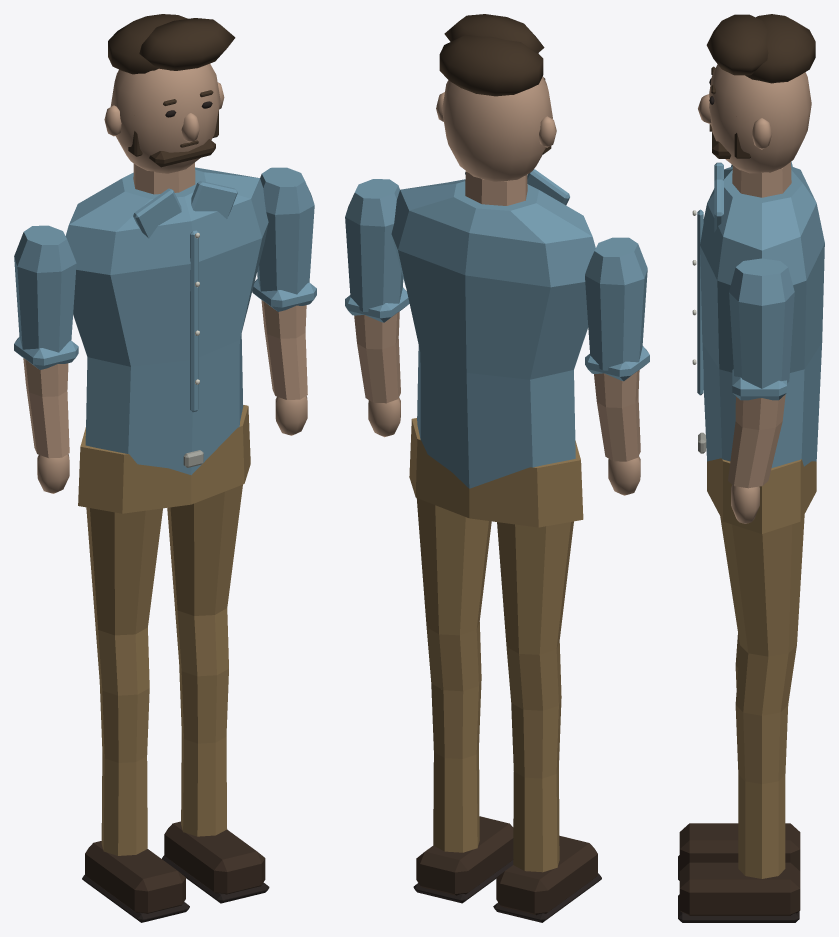
The model's file is person-1.glb.
The picture shows the model from 3 angles, left to right: view 1: azimuth 30°, elevation 25°; view 2: azimuth 150°, elevation 25°; view 3: azimuth 270°, elevation 25°; orthographic projection.
Visible parts, largest first — view 1: body, knee_l, knee_r, arm_l, arm_r, leg_l, leg_r; view 2: body, knee_l, knee_r, arm_l, arm_r, leg_l, leg_r; view 3: body, knee_r, arm_r, leg_r, knee_l.
Boxes of the visible parts, box(x1,y1,x2,y2) form: body: box(65, 14, 268, 513); knee_l: box(82, 683, 189, 922); knee_r: box(162, 663, 269, 903); arm_l: box(14, 225, 78, 493); arm_r: box(252, 167, 316, 435); leg_l: box(86, 507, 162, 695); leg_r: box(167, 484, 242, 676); body: box(391, 14, 595, 527); knee_l: box(493, 698, 601, 922); knee_r: box(413, 678, 513, 903); arm_l: box(585, 237, 649, 495); arm_r: box(345, 179, 409, 437); leg_l: box(497, 521, 573, 710); leg_r: box(416, 498, 491, 691); body: box(692, 14, 824, 533); knee_r: box(678, 705, 800, 922); arm_r: box(728, 258, 794, 523); leg_r: box(720, 514, 804, 715); knee_l: box(678, 666, 800, 880).
Bounding box in the file's own units: 0.1134 × 0.3166 × 0.0482.
